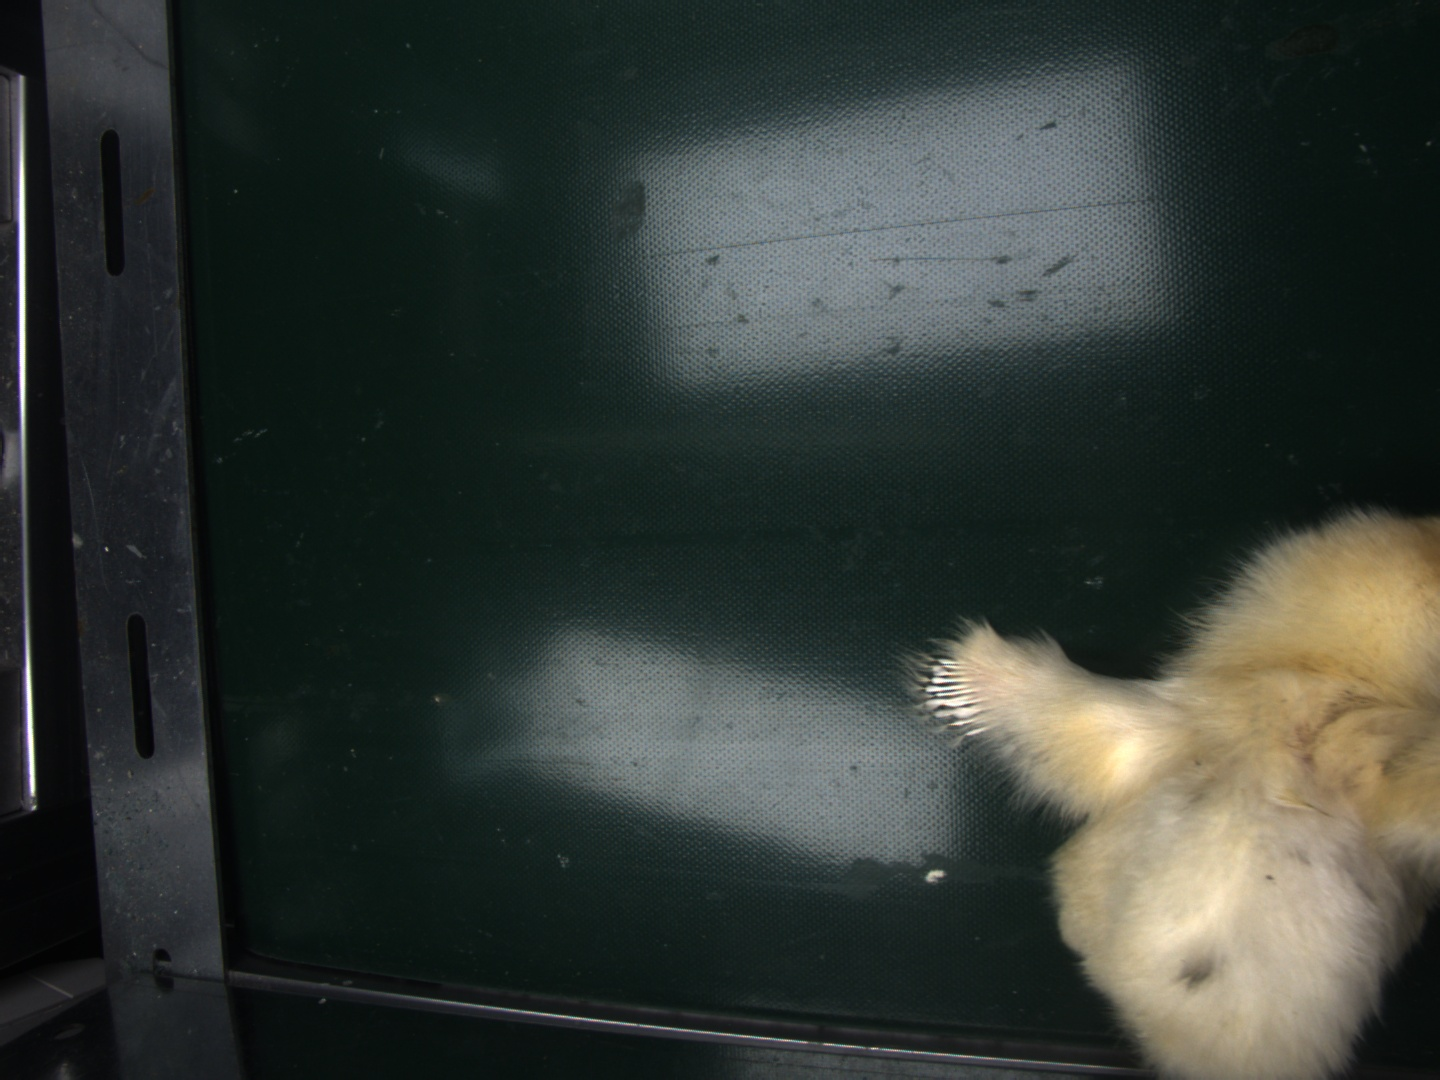male: (925, 650, 990, 735)
